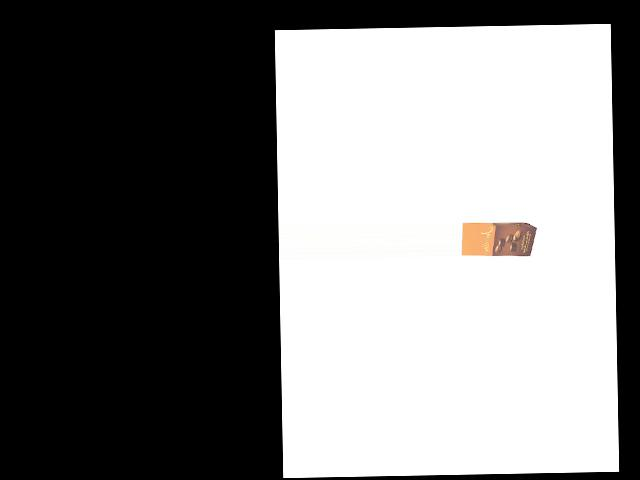chocolate: (461, 219, 536, 261)
